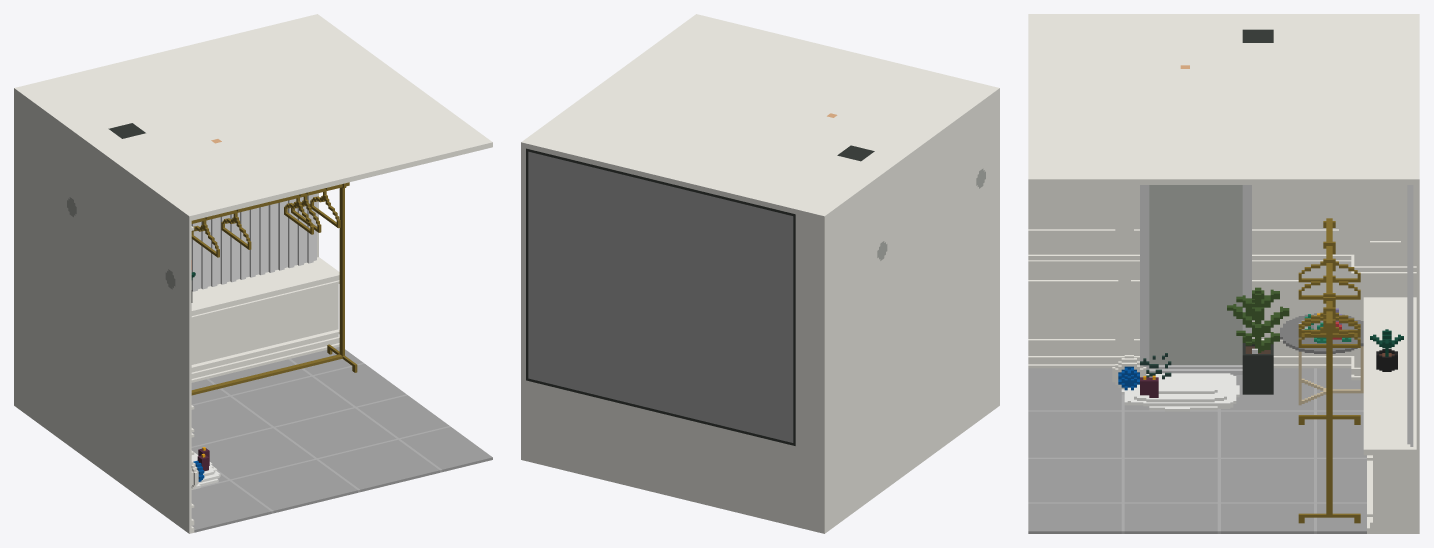
3 renders of one model, left to right at view 1: azimuth 30°, elevation 25°; view 2: azimuth 150°, elevation 25°; view 3: azimuth 270°, elevation 25°, orthographic. The views are drawn at different scales.
Parts seen in each view (by area): view 1: Object_2; view 2: Object_2; view 3: Object_2.
Part boxes in pixels (x1,y1,x2,y2): Object_2: (14, 14, 492, 533); Object_2: (521, 14, 999, 533); Object_2: (1028, 14, 1419, 533).
Size of the model in its own units: 7.44 by 7.44 by 7.44.
1 material, 1 textured.
